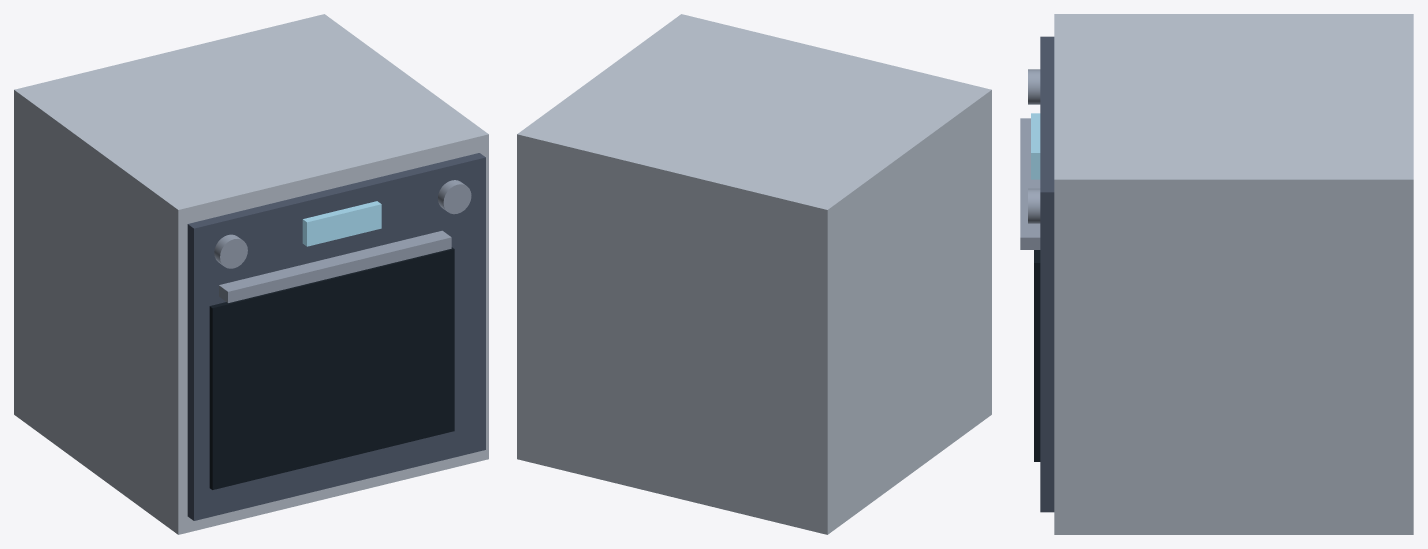
Rendered from steamoven.glb.
3 views of the same model, side by side, from view 1: azimuth 30°, elevation 25°; view 2: azimuth 150°, elevation 25°; view 3: azimuth 270°, elevation 25° (orthographic). The views are drawn at different scales.
Visible parts, largest first — view 1: steamoven; view 2: steamoven; view 3: steamoven.
Part boxes in pixels (x1=…): steamoven: x1=14, y1=14, x2=488, y2=534; steamoven: x1=517, y1=14, x2=991, y2=534; steamoven: x1=1020, y1=14, x2=1413, y2=534.
Bounding box in the file's own units: 0.6 × 0.6 × 0.602.
